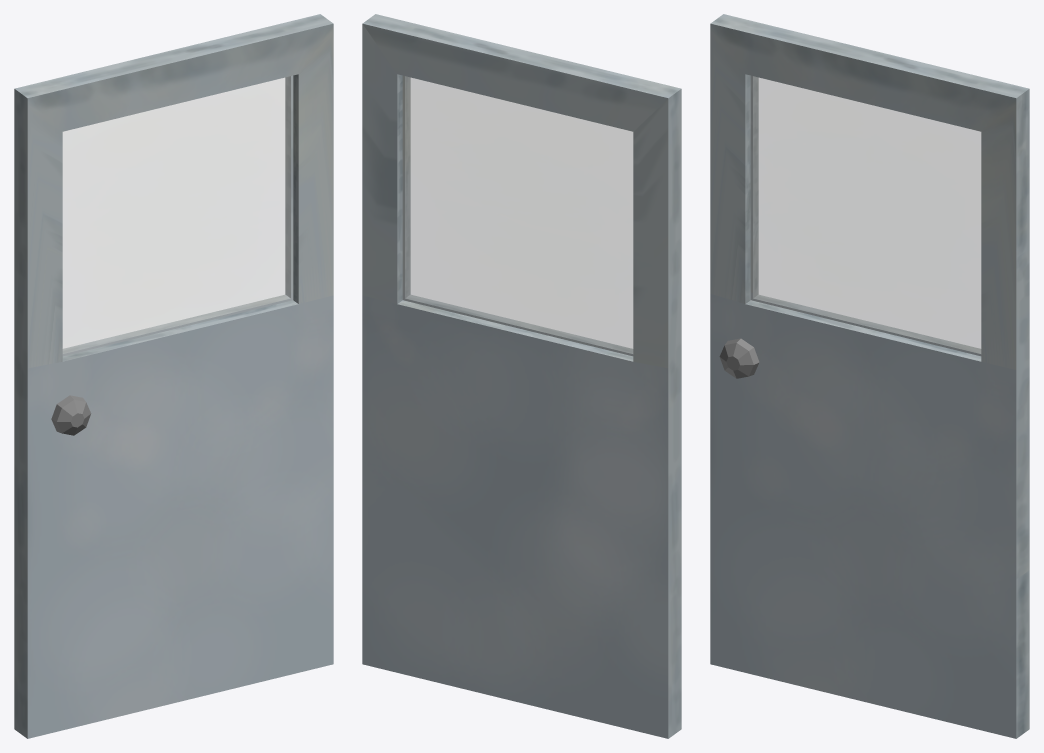
Rendered from door_single.gltf.
The picture shows the model from 3 angles, left to right: view 1: azimuth 30°, elevation 25°; view 2: azimuth 150°, elevation 25°; view 3: azimuth 330°, elevation 25°; orthographic projection.
Parts seen in each view (by area): view 1: Door, DoorKnob; view 2: Door; view 3: Door, DoorKnob.
Part boxes in pixels (x1=…): Door: x1=14, y1=14, x2=333, y2=738; DoorKnob: x1=51, y1=395, x2=91, y2=435; Door: x1=362, y1=14, x2=681, y2=738; Door: x1=710, y1=14, x2=1029, y2=738; DoorKnob: x1=719, y1=338, x2=759, y2=378.
Size of the model in its own units: 0.9996 by 2 by 0.1518.
Materials: 3 (2 with a texture image).
